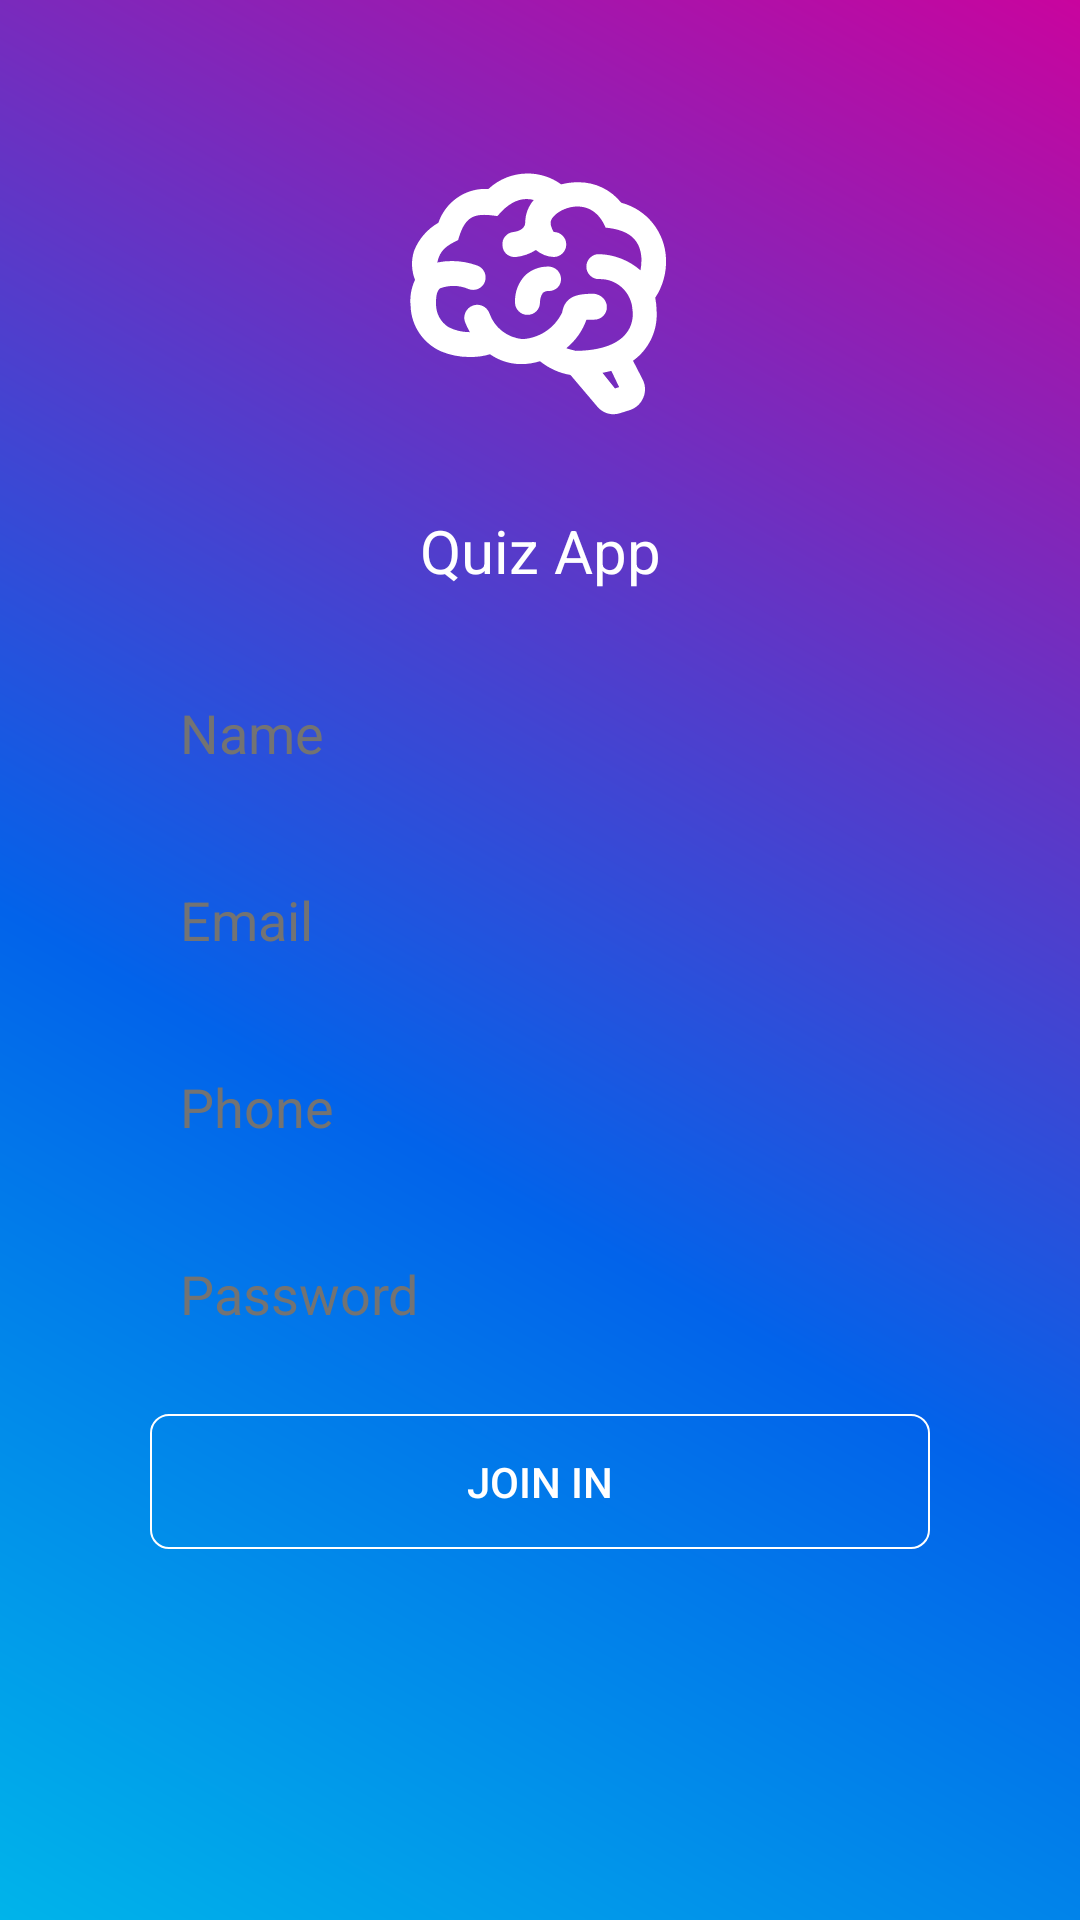

Icon click points for this 1080 x 1920 phone screenshot, format [x,y]:
brain: [540,300]
